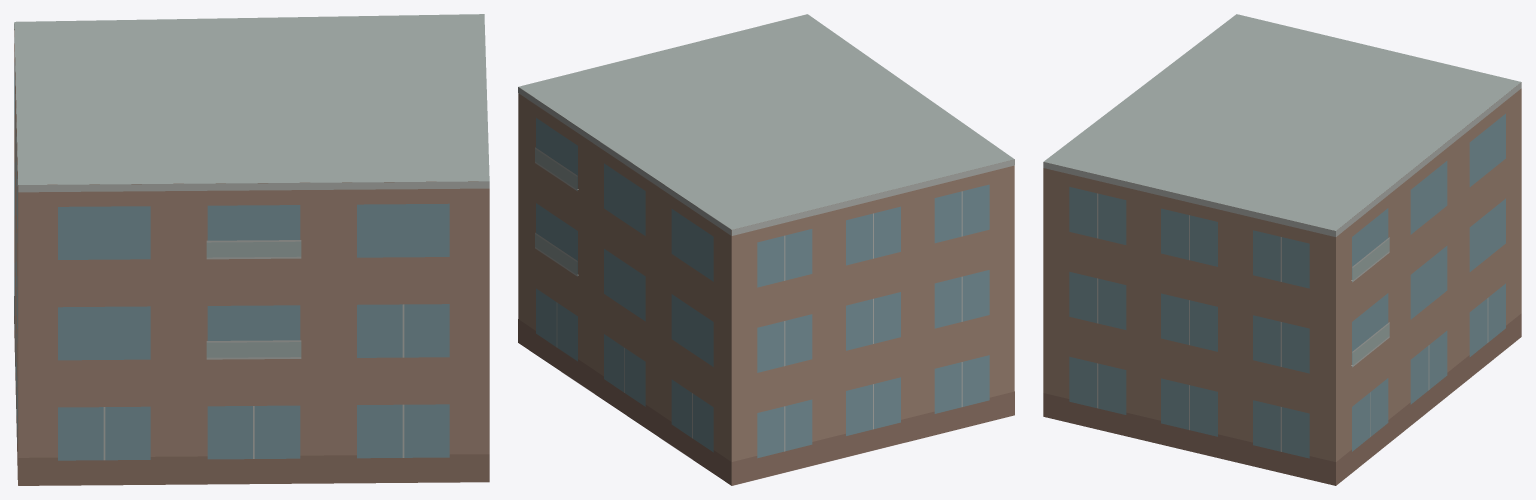
Rendered from survey-upis-32851987.glb.
The picture shows the model from 3 angles, left to right: view 1: azimuth 30°, elevation 25°; view 2: azimuth 150°, elevation 25°; view 3: azimuth 270°, elevation 25°; orthographic projection. The views are drawn at different scales.
Visible parts, largest first — view 1: survey-upis-32851987.tmp; view 2: survey-upis-32851987.tmp; view 3: survey-upis-32851987.tmp.
Boxes of the visible parts, x1,y1,x2,y2 form: survey-upis-32851987.tmp: (14, 14, 489, 485); survey-upis-32851987.tmp: (518, 14, 1014, 485); survey-upis-32851987.tmp: (1043, 14, 1521, 485).
Bounding box in the file's own units: 18.36 × 10.05 × 17.1.
